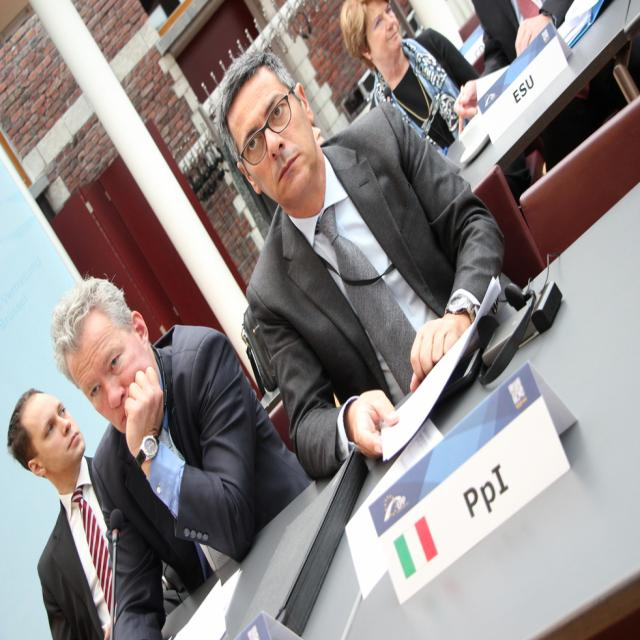Glasses: (239, 82, 295, 166)
